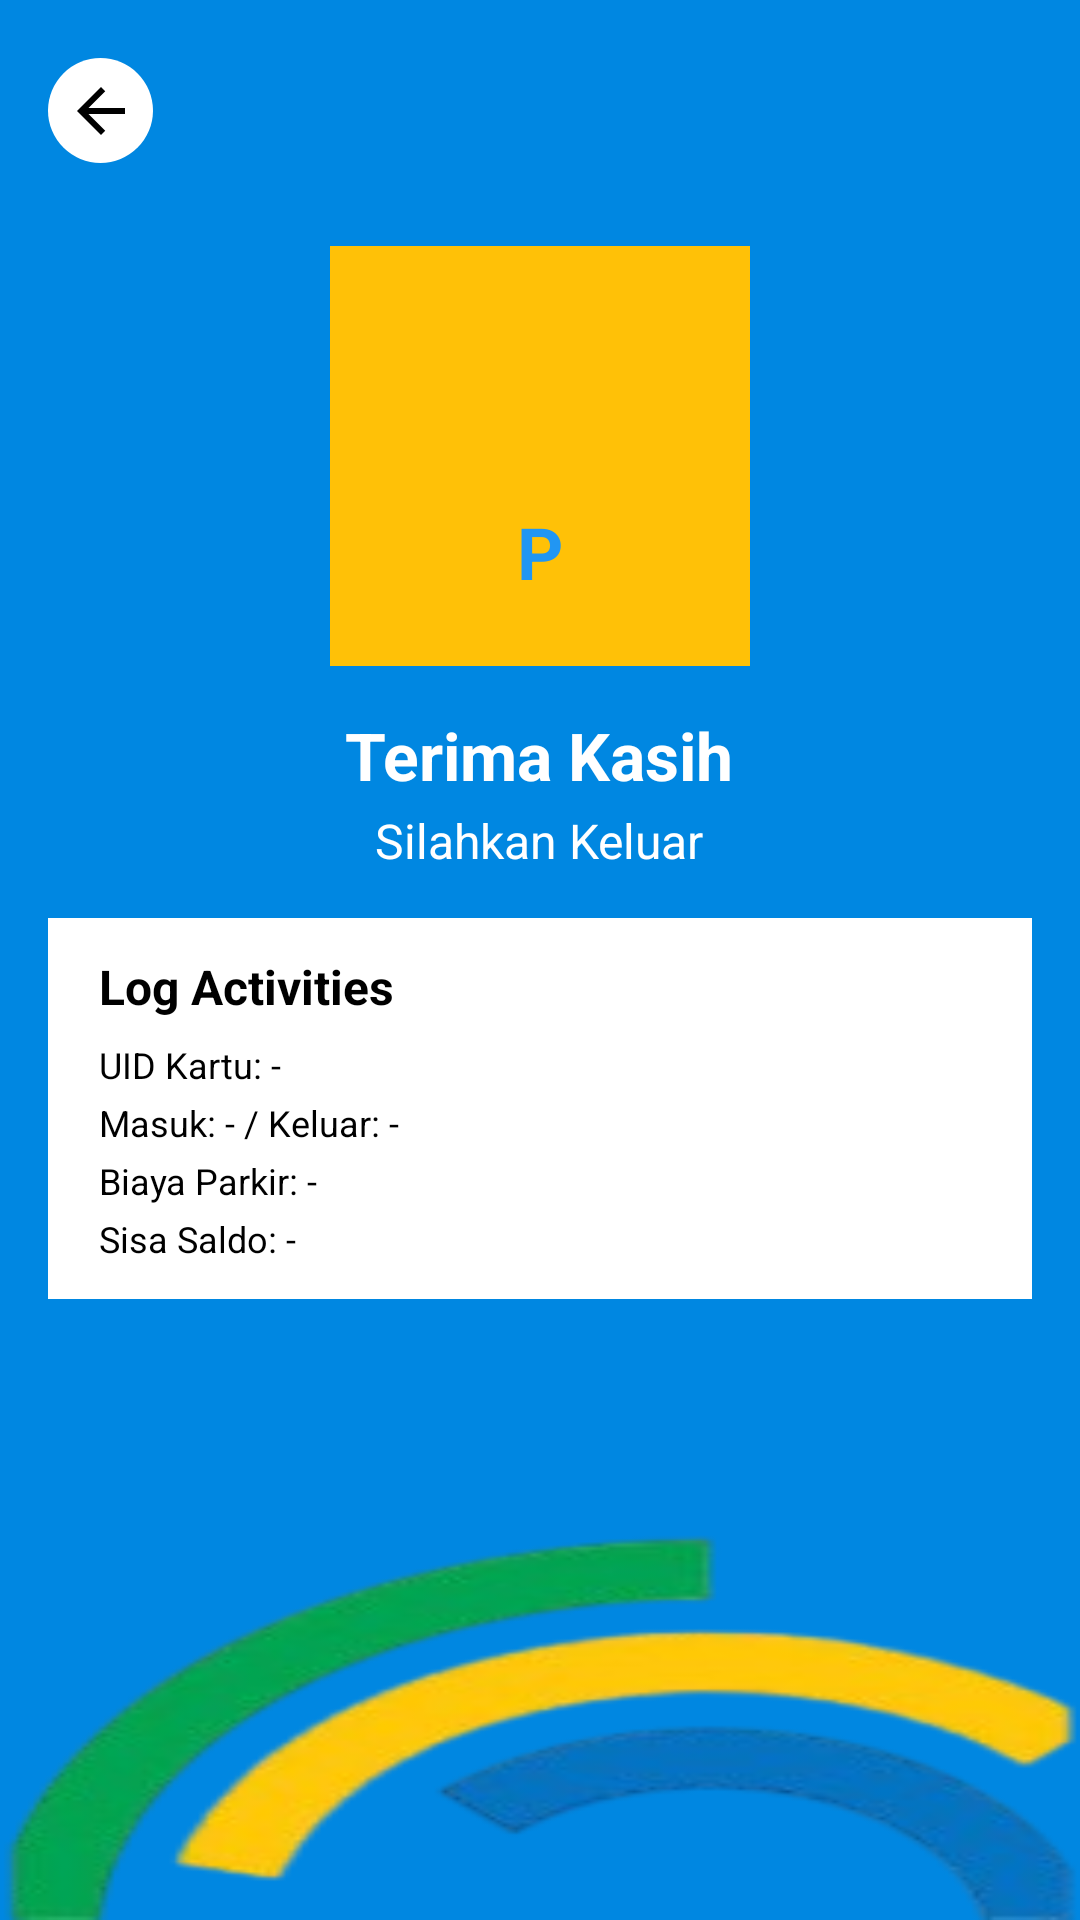

Named icons in this screenshot (1080px×1920px) and their centers, (x=x, y=y):
Tombol Kembali: (x=100, y=110)
